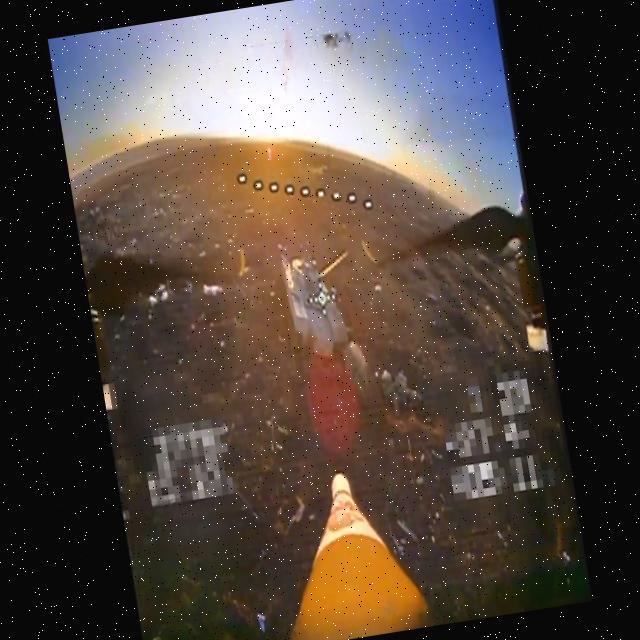AIFV: (280, 242, 363, 361)
